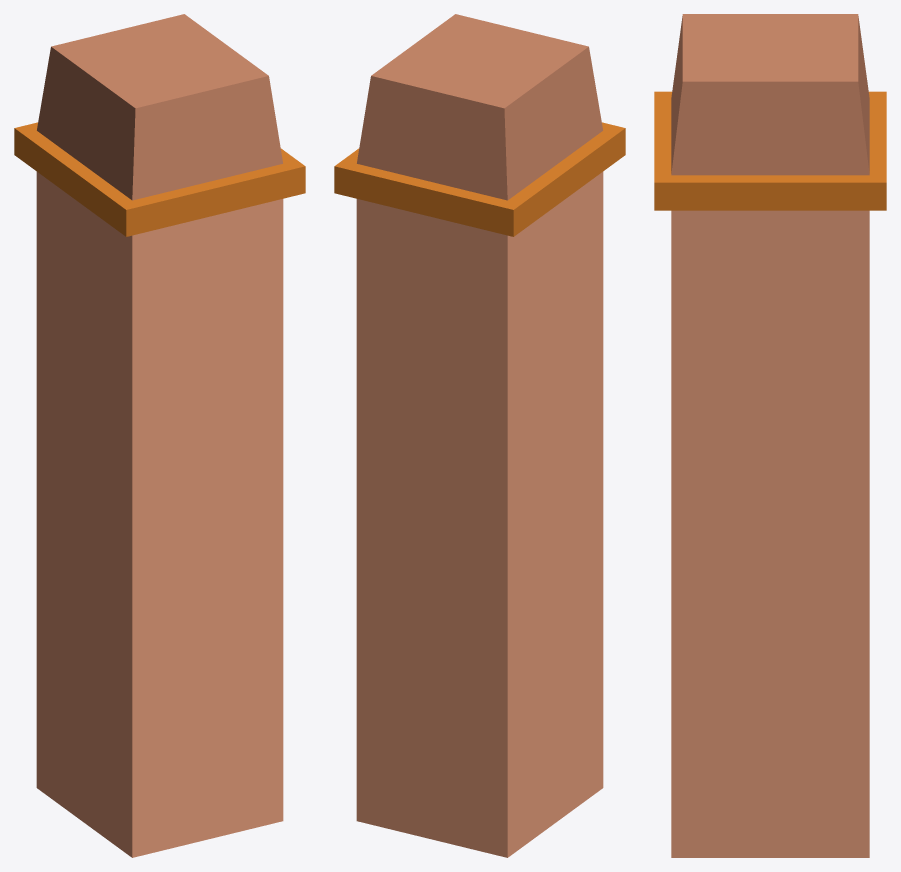
The model's file is Building_Objects_Wall_Corner.fbx.
The picture shows the model from 3 angles, left to right: view 1: azimuth 30°, elevation 25°; view 2: azimuth 150°, elevation 25°; view 3: azimuth 270°, elevation 25°; orthographic projection. The views are drawn at different scales.
Visible parts, largest first — view 1: Building_Objects_Wall_Corner; view 2: Building_Objects_Wall_Corner; view 3: Building_Objects_Wall_Corner.
Boxes of the visible parts, <box> form: Building_Objects_Wall_Corner: <box>14,14,305,857</box>; Building_Objects_Wall_Corner: <box>334,14,625,857</box>; Building_Objects_Wall_Corner: <box>654,14,886,857</box>.
Bounding box in the file's own units: 83.67 × 332 × 90.47.
